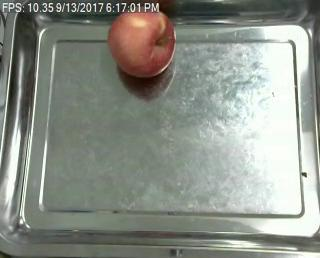apple: (108, 13, 177, 78)
